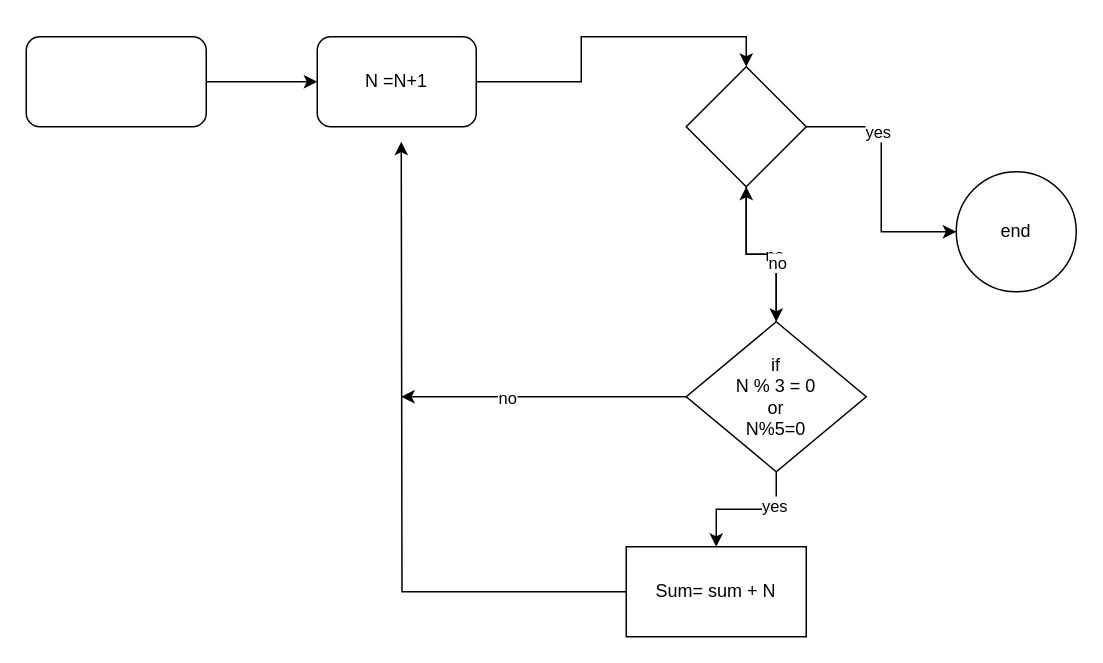
This 1103x663 diagram has some shape labels left out. Here are the shapes that lost their labels. From the top down, the centre of each, then its label:
the point at 115,81: N = 0 sum=0
the point at 745,126: if N > 1000
